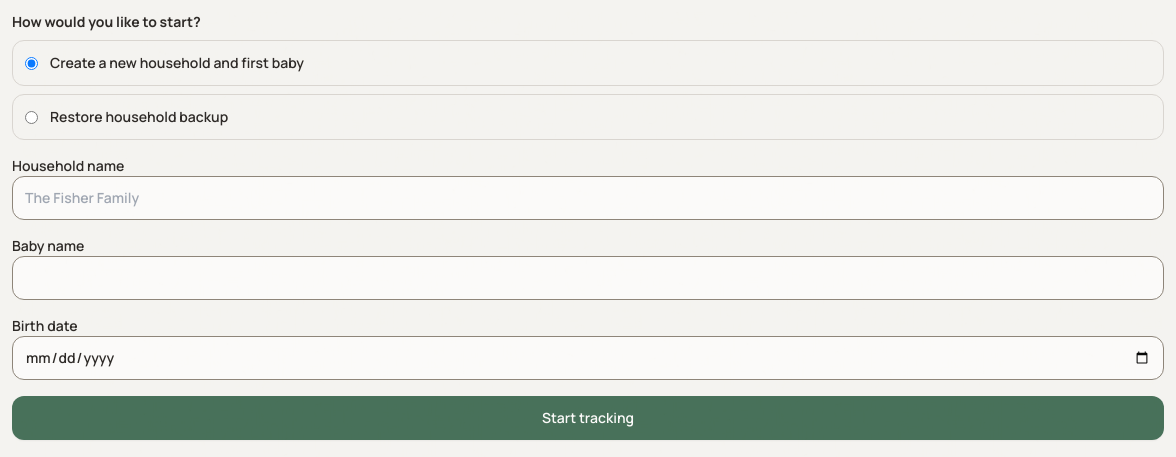
Test: keeps a refused restore creation on onboarding with its server error
Click the radio button labelled "Restore household backup". click: click(32, 117)
box: [25, 110, 38, 124]
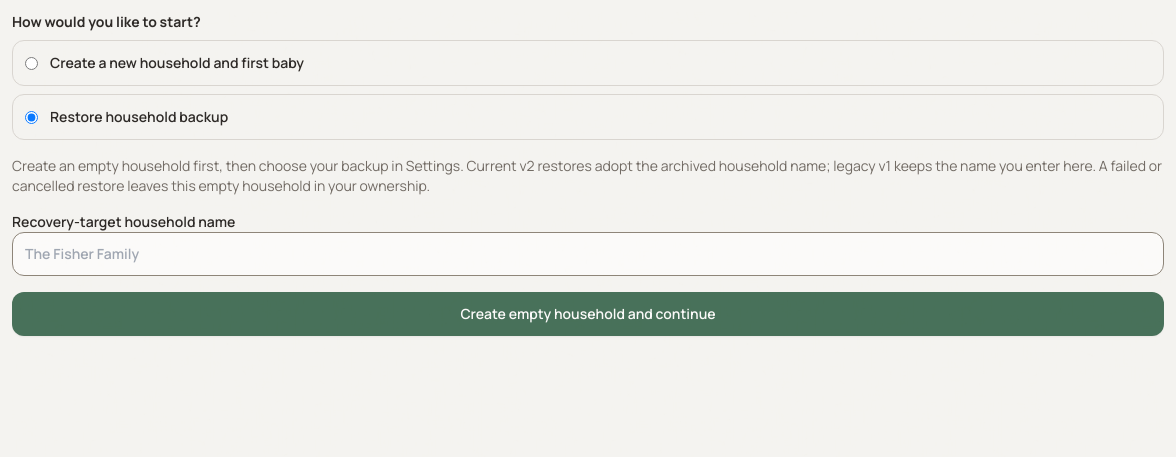
Type "Recovery" into the field labelled "Recovery-target household name". click: (588, 254)
box: [12, 232, 1164, 276]
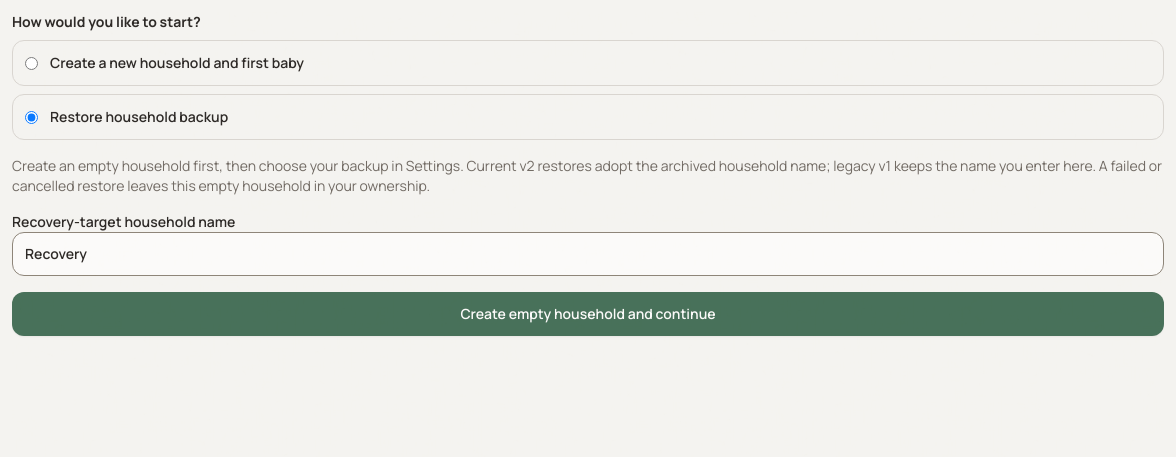
Submit the form named "Create empty household and continue"
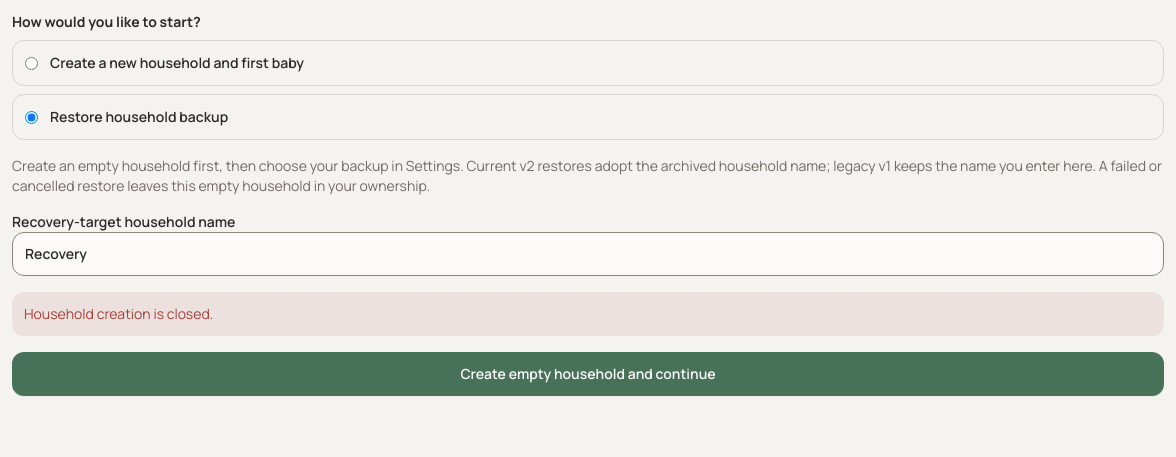
Expected: the text "Household creation is closed." is shown, [12, 292, 1164, 336]
